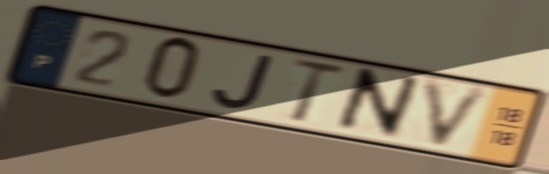0: (139, 34, 206, 106)
2: (69, 28, 133, 90)
J: (209, 53, 279, 112)
N: (329, 66, 425, 142)
T: (287, 56, 348, 126)
V: (418, 74, 497, 155)
